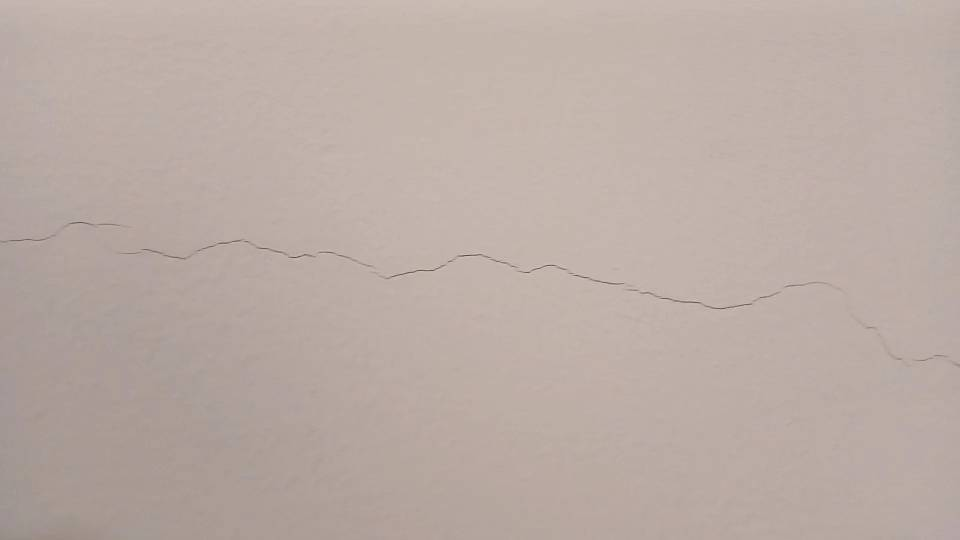Low: (1, 208, 960, 386)
